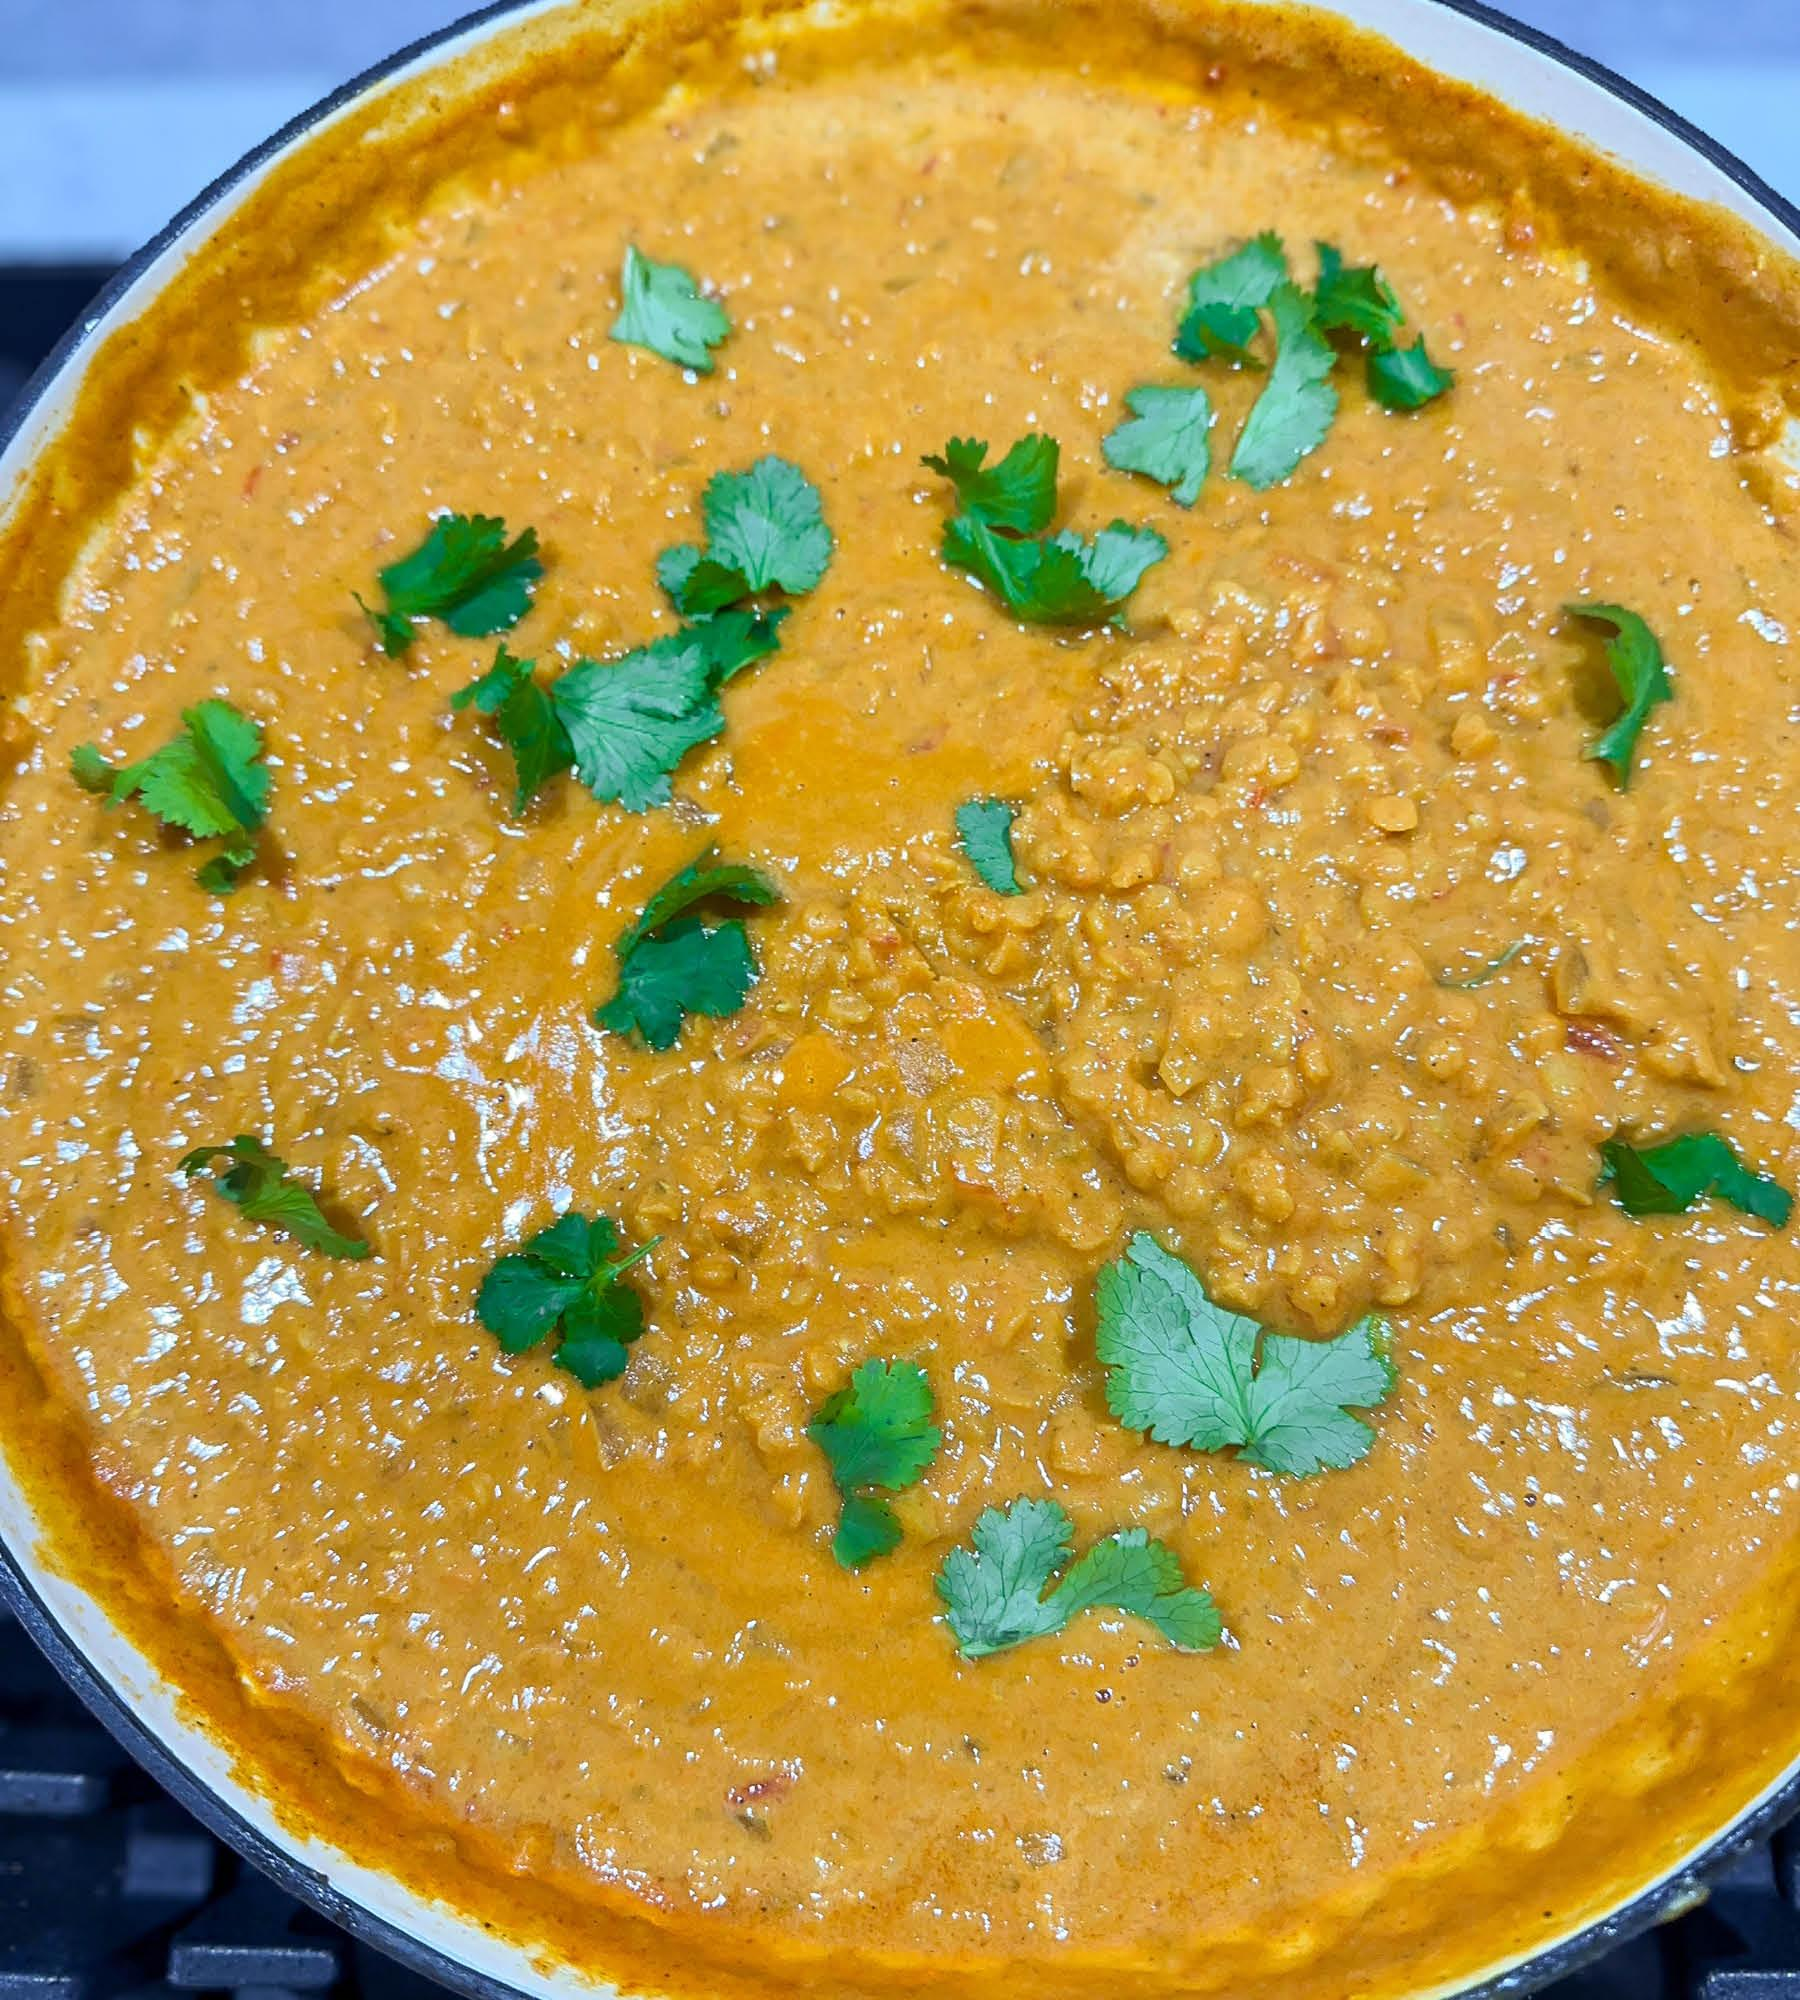Dhal Curry: (71, 31, 1786, 1977)
